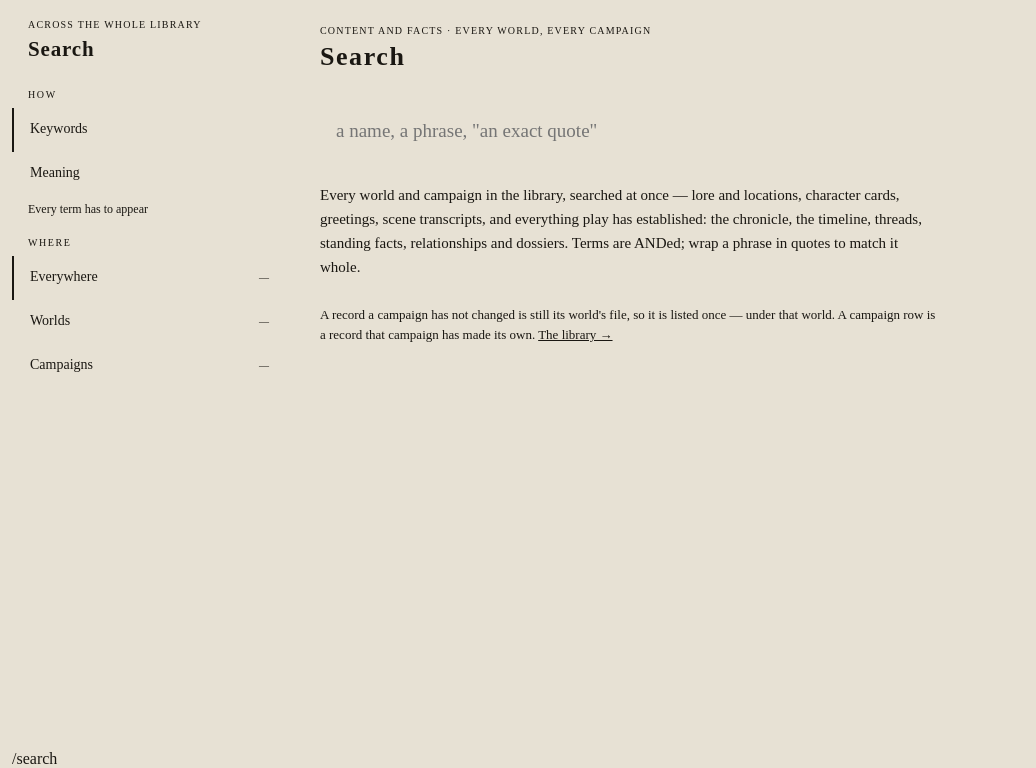
Scenario: typing on through a slow sweep asks once more, for the last query only
In the search field named "search the library": (661, 131) [320,105,1002,157], type "sa"
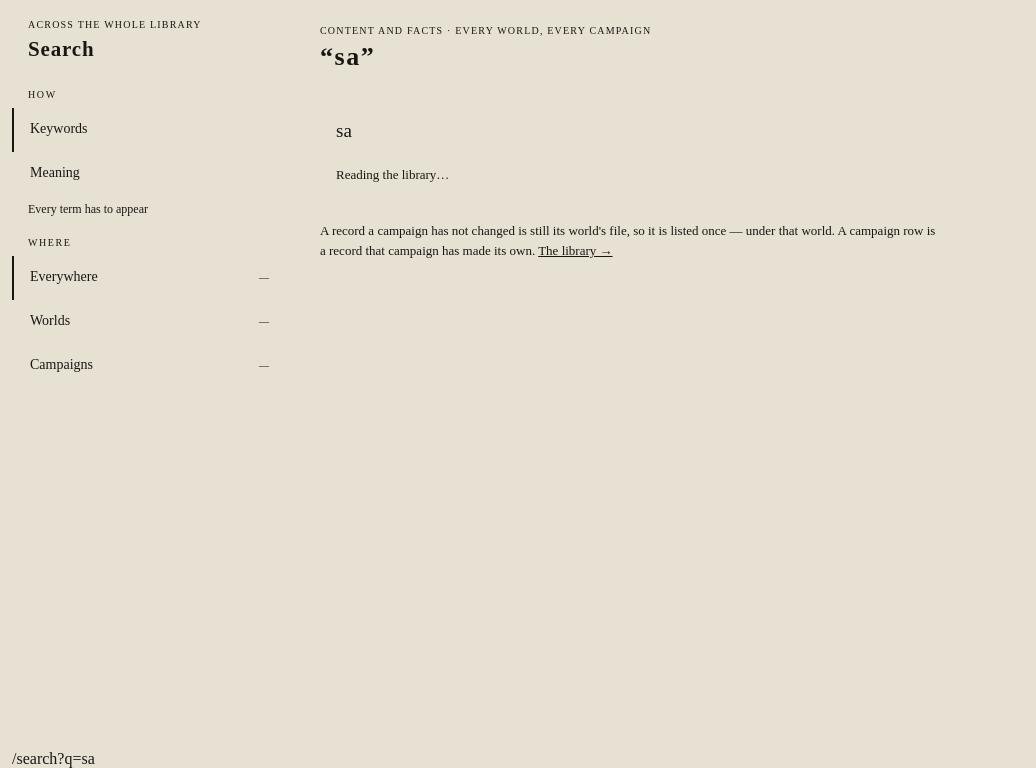
Replace the text in the search field named "search the library" with "sal": (661, 131) [320,105,1002,157]
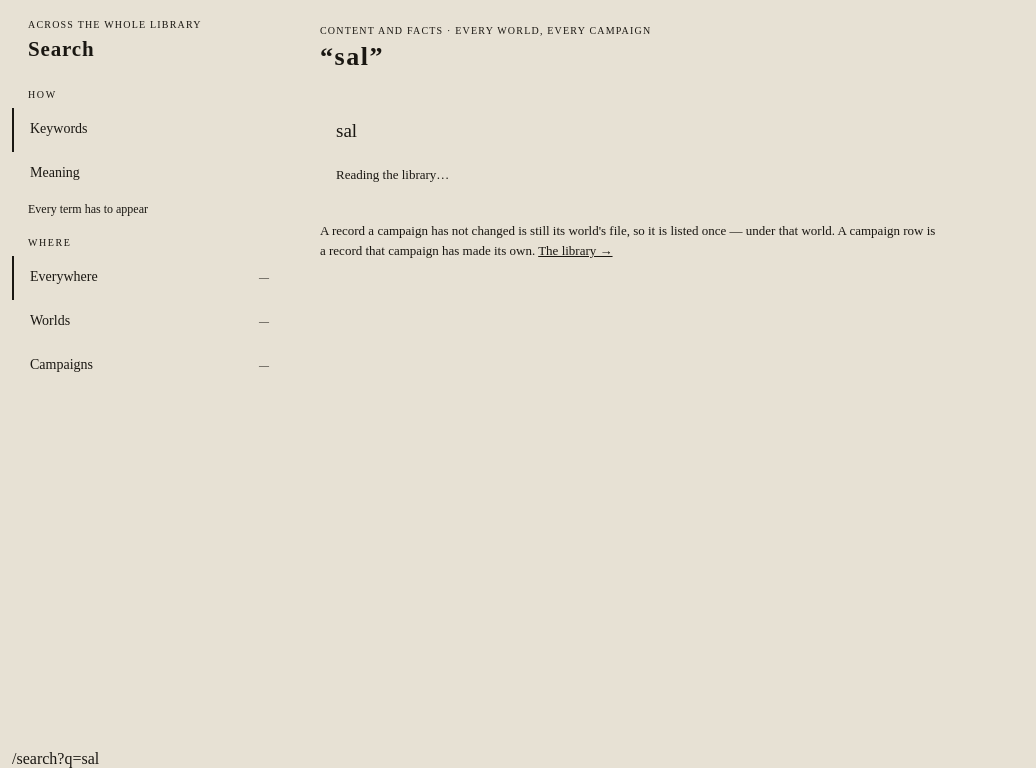
Replace the text in the search field named "search the library" with "salt": (661, 131) [320,105,1002,157]
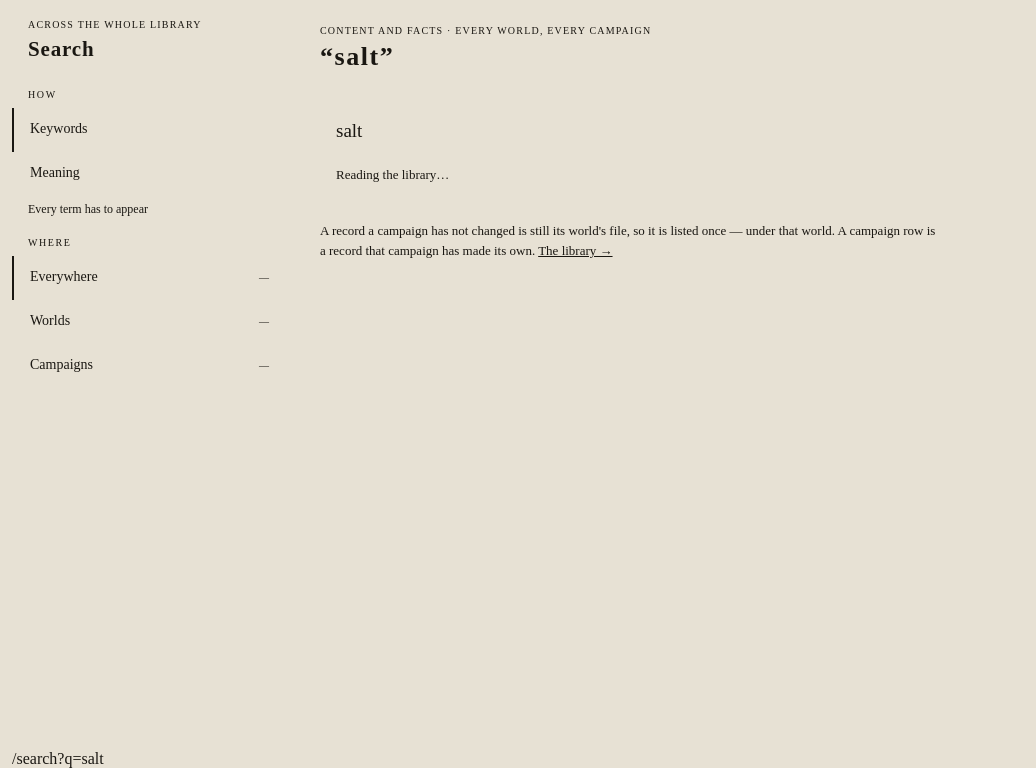
Check: the text with test id "where" shows "q=salt", box [12,750,104,767]
Replace the text in the search field named "search the library" with "salt marsh": (661, 131) [320,105,1002,157]
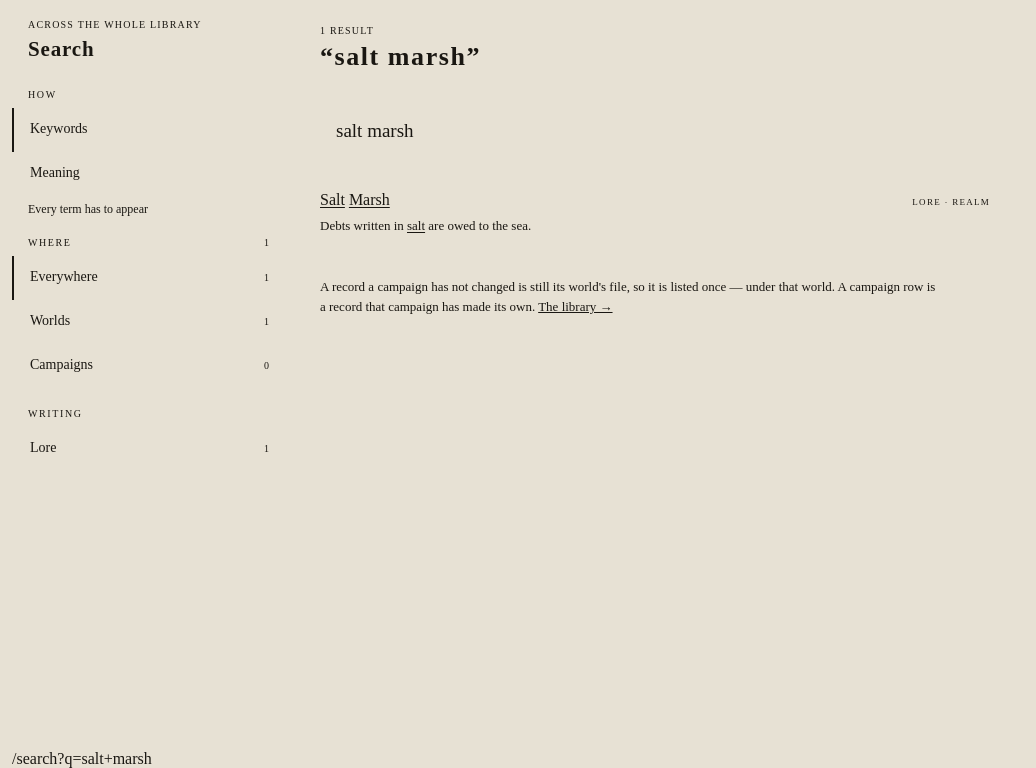
Check: the link "Salt Marsh" is shown, box [320,191,990,234]
